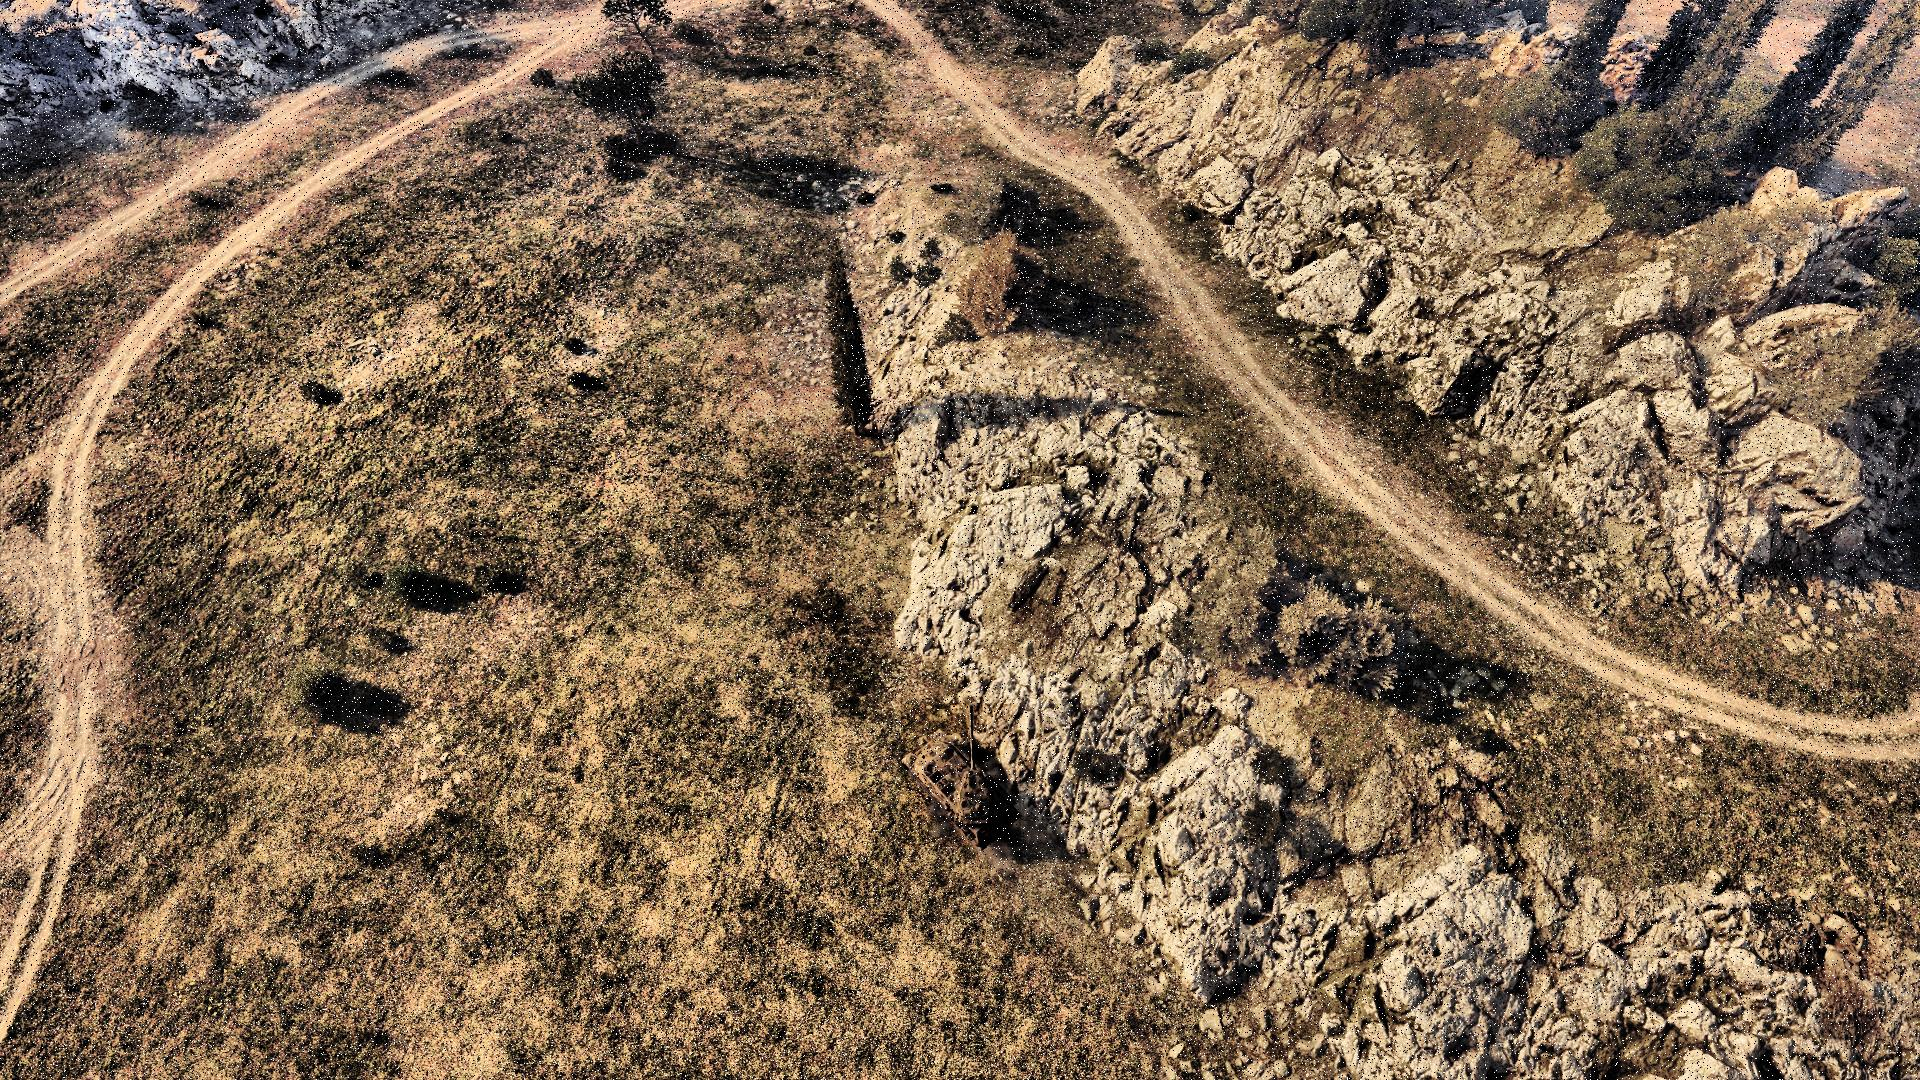military-vehicle: (902, 703, 1022, 847)
